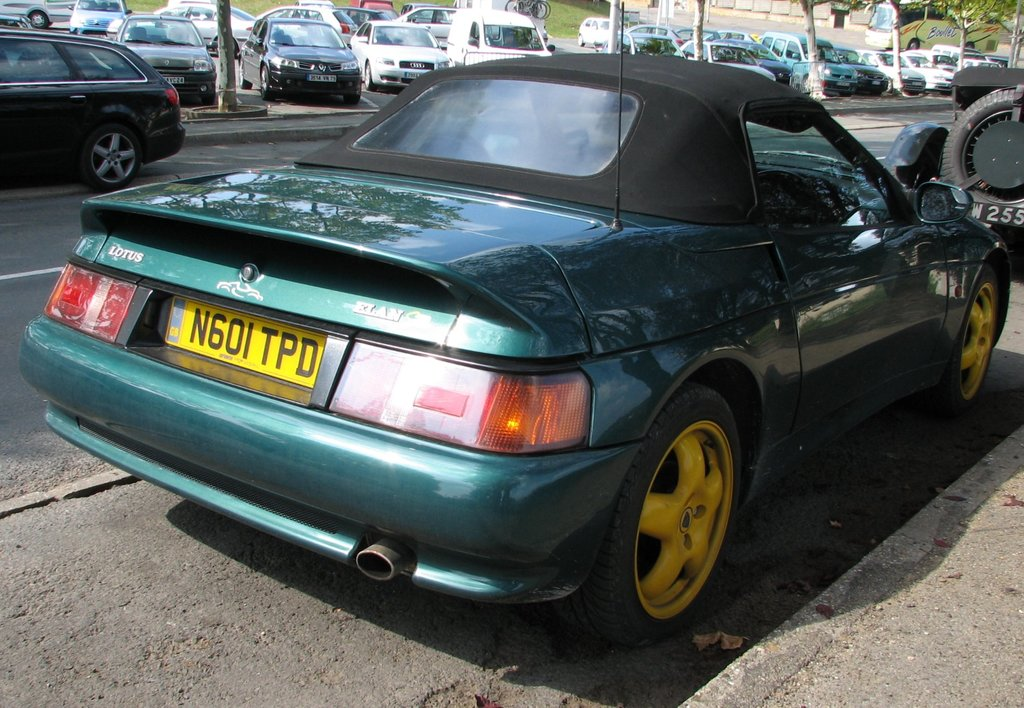license plate: (170, 291, 335, 344)
